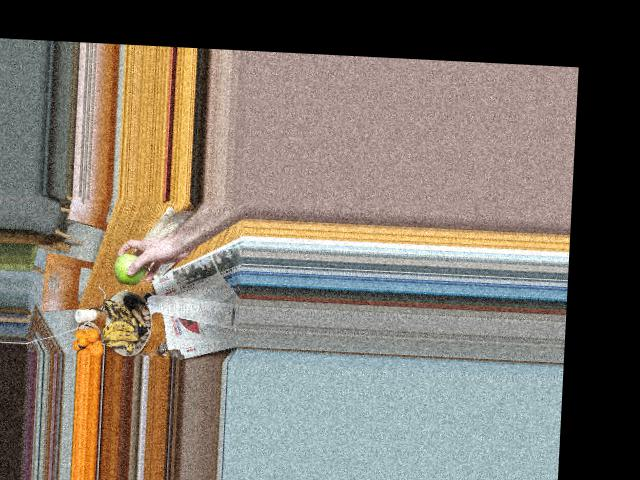apple: (114, 253, 148, 286)
